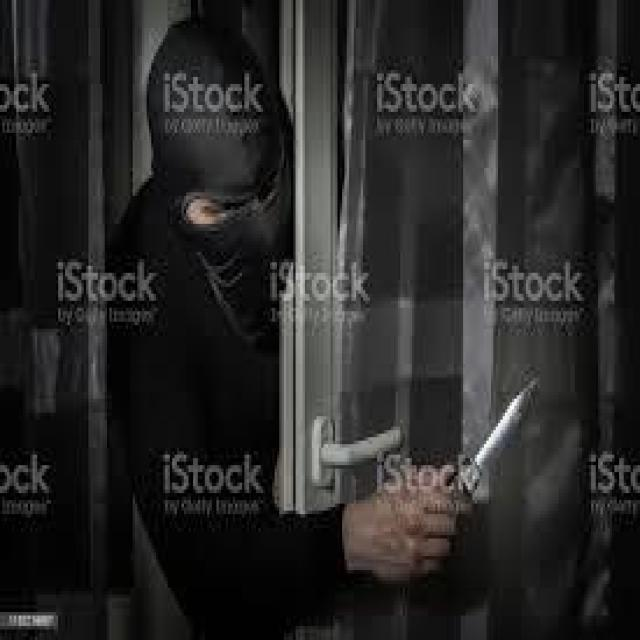faca: (344, 367, 550, 588)
